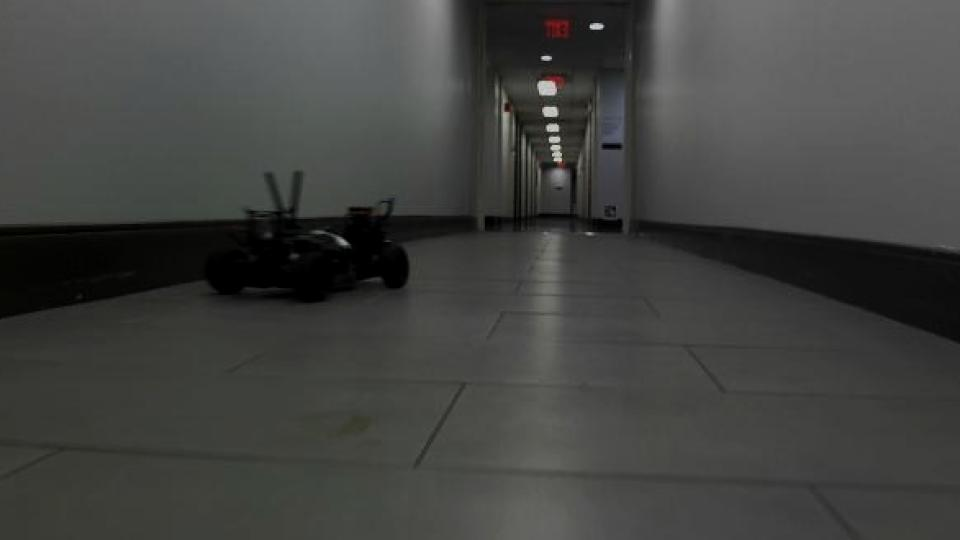car: (200, 168, 411, 304)
